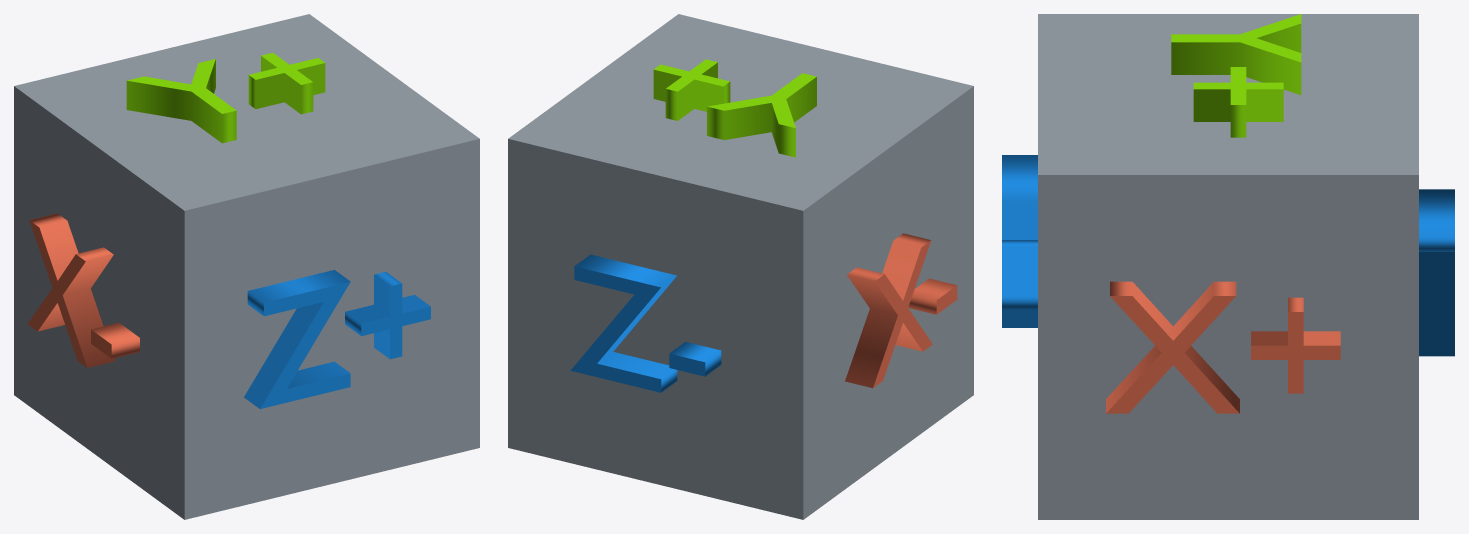
File: TestCube(flawed-pos).glb
The picture shows the model from 3 angles, left to right: view 1: azimuth 30°, elevation 25°; view 2: azimuth 150°, elevation 25°; view 3: azimuth 270°, elevation 25°; orthographic projection. The views are drawn at different scales.
Visible parts, largest first — view 1: Z+, X-, Y+, Z+.label, Y+.label, X-.label; view 2: Z-, X-, Y+, X-.label, Z-.label, Y+.label; view 3: X+, Y+, X+.label, Y+.label, Z+.label, Z-.label.
Part boxes in pixels (x1,y1,x2,y2): Z+: [184, 139, 479, 519]; X-: [14, 86, 184, 519]; Y+: [14, 14, 479, 210]; Z+.label: [244, 270, 430, 408]; Y+.label: [126, 52, 325, 143]; X-.label: [27, 213, 139, 367]; Z-: [508, 139, 803, 519]; X-: [803, 86, 973, 519]; Y+: [508, 14, 973, 210]; X-.label: [845, 233, 957, 388]; Z-.label: [570, 254, 721, 392]; Y+.label: [653, 59, 816, 157]; X+: [1038, 175, 1418, 519]; Y+: [1038, 14, 1418, 174]; X+.label: [1106, 281, 1340, 413]; Y+.label: [1171, 14, 1301, 137]; Z+.label: [1002, 155, 1037, 327]; Z-.label: [1419, 189, 1454, 356].
Bounding box in the file's own units: 1.19 × 1.19 × 1.19.
